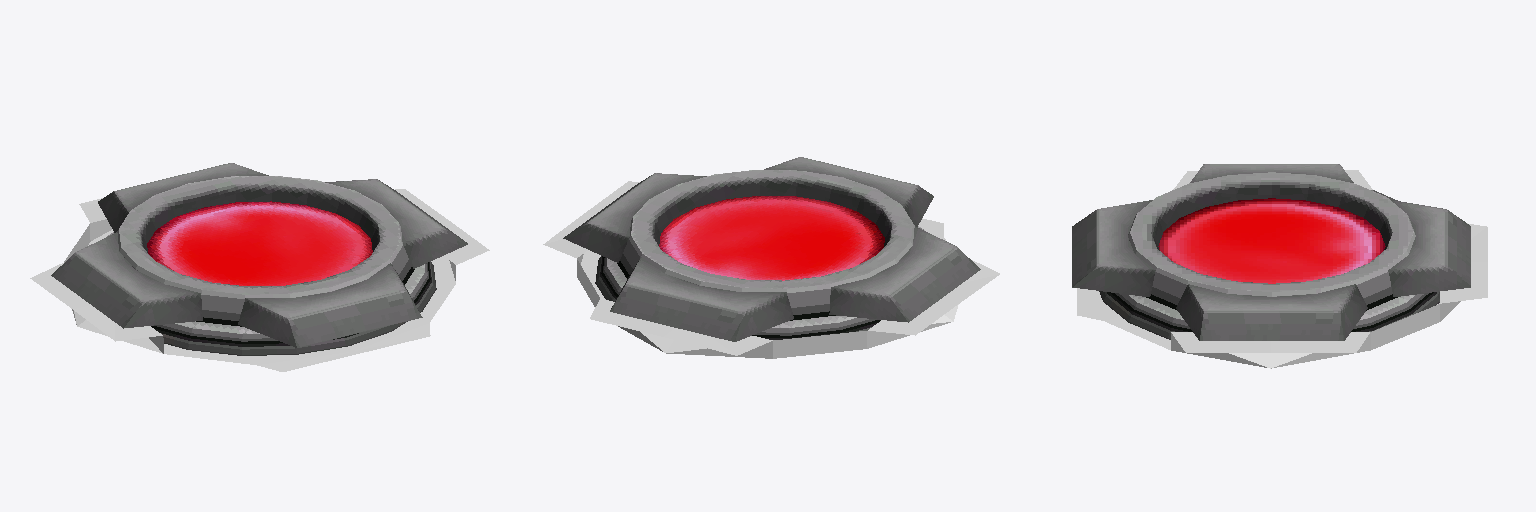
3 renders of one model, left to right at view 1: azimuth 30°, elevation 25°; view 2: azimuth 150°, elevation 25°; view 3: azimuth 270°, elevation 25°, orthographic.
Parts seen in each view (by area): view 1: polygon0, polygon1, polygon2; view 2: polygon0, polygon1, polygon2; view 3: polygon0, polygon1, polygon2.
Part boxes in pixels (x1,y1,x2,y2): polygon0: (51,163,467,355); polygon1: (147,201,372,285); polygon2: (30,189,489,371); polygon0: (563,157,980,341); polygon1: (659,196,884,280); polygon2: (543,181,999,358); polygon0: (1072,164,1470,340); polygon1: (1158,198,1385,283); polygon2: (1077,170,1487,368).
Bounding box in the file's own units: 12.6 × 1.53 × 12.13.
4 materials, 2 textured.